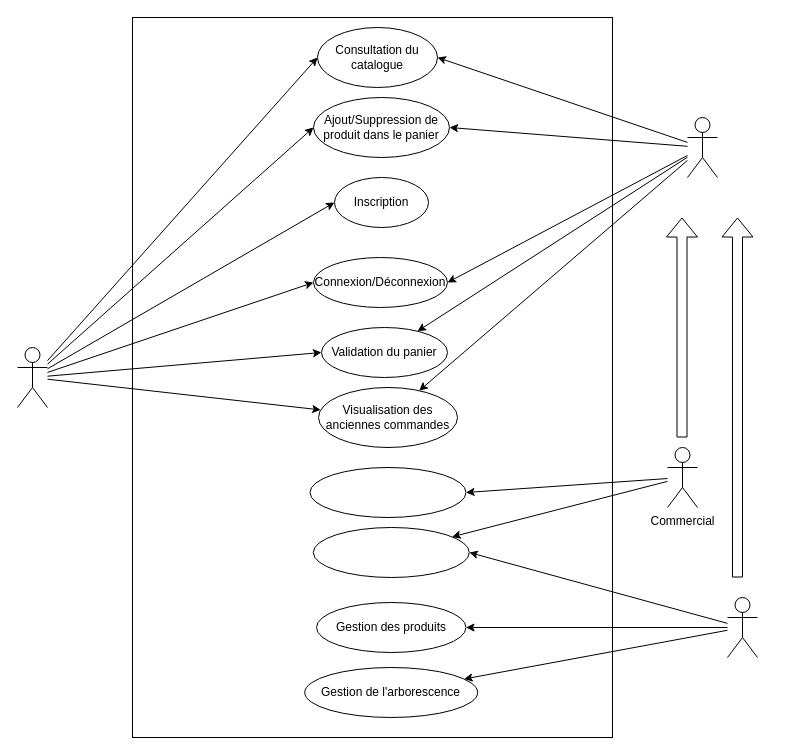
The diagram is 800 pixels wide and 755 high, and some of its shapes have lost their labels. Here are the shapes that lost their labels. From the top down, the box of each, then its label:
(686, 116, 718, 178): Employé
(16, 346, 48, 408): Client
(309, 466, 466, 518): Gestion coefficient
(312, 526, 469, 578): Gestion des profils
(726, 596, 758, 658): Equipe relation
